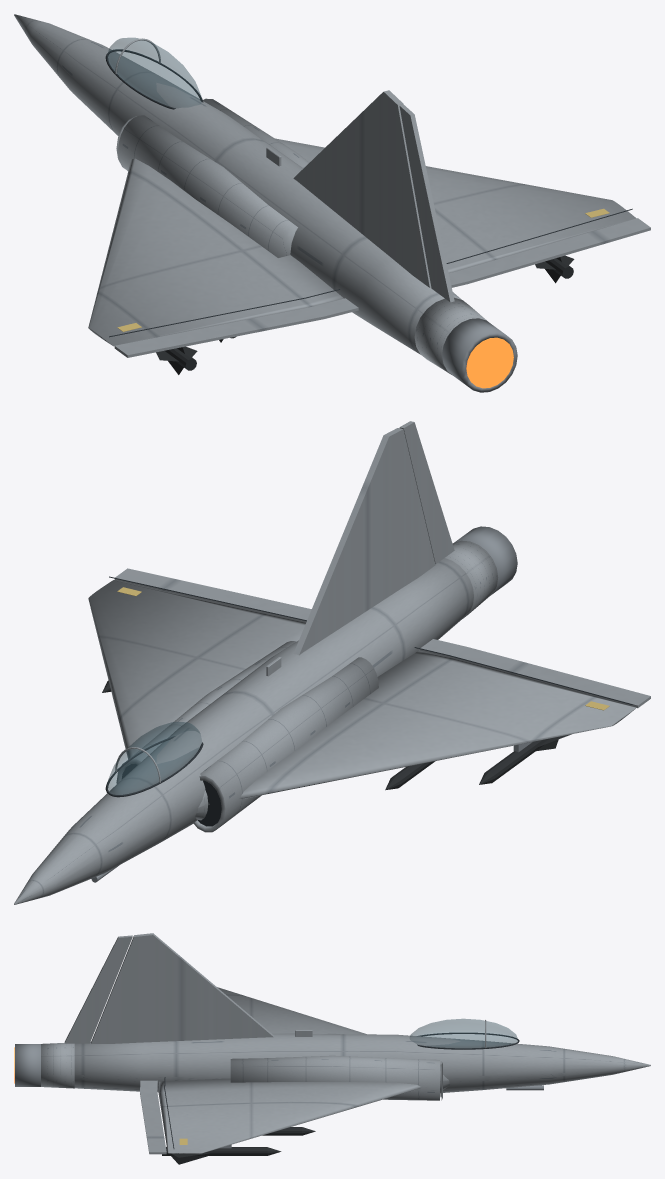
File: wings_mirage2000.glb
The picture shows the model from 3 angles, top to bottom: view 1: azimuth 30°, elevation 25°; view 2: azimuth 150°, elevation 25°; view 3: azimuth 270°, elevation 25°; orthographic projection. The views are drawn at different scales.
Parts seen in each view (by area): view 1: airframe_static, canopy, elevon_L, rudder_1, elevon_R, afterburner, missile_L2, missile_R2; view 2: airframe_static, canopy, elevon_L, elevon_R, rudder_1, missile_L2; view 3: airframe_static, canopy, rudder_1, elevon_R, missile_R2.
Part boxes in pixels (x1,y1,x2,y2): airframe_static: (14, 14, 636, 392); canopy: (105, 37, 203, 109); elevon_L: (114, 298, 358, 357); rudder_1: (399, 104, 454, 302); elevon_R: (448, 218, 650, 287); afterburner: (466, 337, 513, 388); missile_L2: (156, 346, 197, 374); missile_R2: (535, 255, 574, 283); airframe_static: (14, 428, 636, 904); canopy: (105, 721, 203, 797); elevon_L: (420, 639, 650, 708); elevon_R: (114, 568, 311, 622); rudder_1: (399, 421, 454, 564); missile_L2: (479, 734, 571, 784); airframe_static: (15, 933, 650, 1153); canopy: (410, 1018, 519, 1049); rudder_1: (64, 935, 132, 1043); elevon_R: (140, 1080, 166, 1154); missile_R2: (162, 1147, 281, 1164).
Bounding box in the file's own units: 9.13 × 4.26 × 14.37.
Materials: 7 (1 with a texture image).
